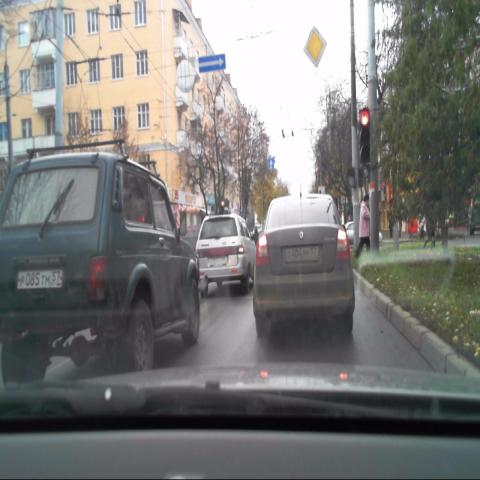5_7_1: (198, 54, 226, 74)
